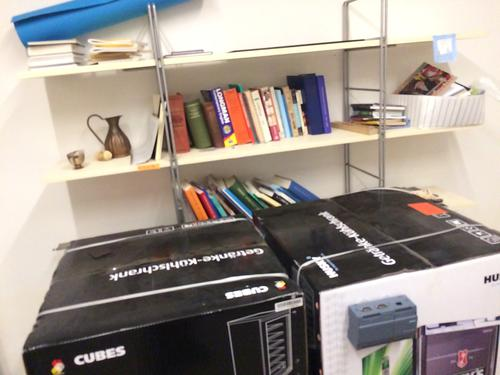iot2000: (347, 294, 419, 351)
